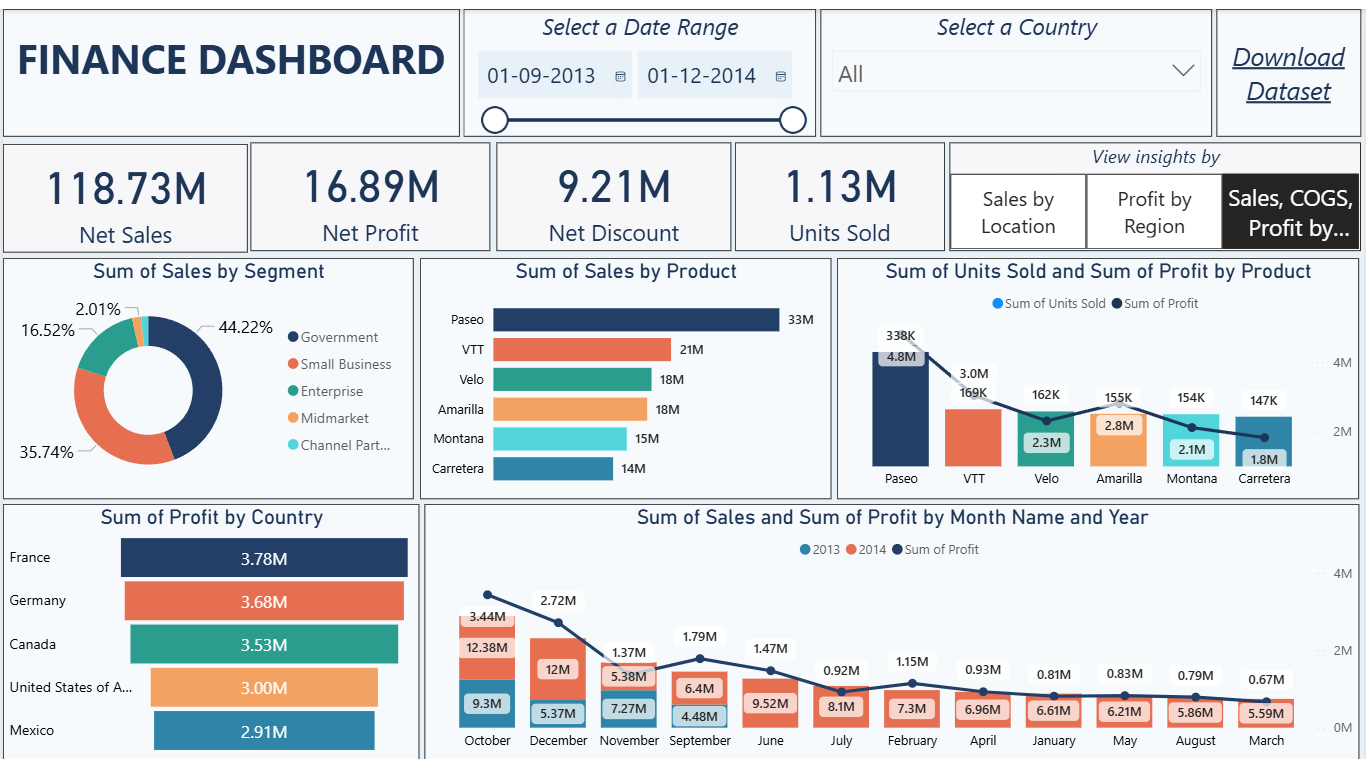

The page's visual inventory and layout, read from the dashboard file:
{"tool":"powerbi","page":{"name":"Dashboard","canvas":[1280,720],"ordinal":4},"visuals":[{"type":"textbox","box":[0,0,429,119.8],"z":0},{"type":"slicer","title":"Select a Date Range","fields":{"Values":["financials.Date"]},"box":[433,0,331,119.8],"z":1000},{"type":"slicer","title":"Select a Country","fields":{"Values":["financials.Country"]},"box":[768.5,0,368,119.8],"z":2000},{"type":"actionButton","title":"Visit Website","box":[1140,0,136,119.8],"z":3000},{"type":"bookmarkNavigator","title":"View insights by","box":[889.9,126,386.6,102.3],"z":4000},{"type":"card","fields":{"Values":["Master Table.Net Sales"]},"box":[0,126.2,230.1,102.3],"z":5000},{"type":"card","fields":{"Values":["Master Table.Net Profit"]},"box":[233.3,126,225.3,102.3],"z":6000},{"type":"card","fields":{"Values":["Master Table.Net Discount"]},"box":[463.3,126,220.5,102.3],"z":7000},{"type":"card","fields":{"Values":["Master Table.Total Unit Sold"]},"box":[688.6,126,197,102.3],"z":8000},{"type":"clusteredBarChart","fields":{"Category":["financials.Product"],"Y":["Sum(financials. Sales)"]},"box":[391.4,234,386.6,226.9],"z":9000},{"type":"donutChart","fields":{"Category":["financials.Segment"],"Y":["Sum(financials. Sales)"]},"box":[0,234,386,226.9],"z":10000},{"type":"lineClusteredColumnComboChart","fields":{"Y":["Sum(financials.Units Sold)"],"Y2":["Sum(financials.Profit)"],"Category":["financials.Product"]},"box":[784.5,234,490.5,226.9],"z":11000},{"type":"funnel","fields":{"Category":["financials.Country"],"Y":["Sum(financials.Profit)"]},"box":[0,464.9,391.4,241.2],"z":12000},{"type":"lineStackedColumnComboChart","fields":{"Category":["financials.Month Name"],"Y2":["Sum(financials.Profit)"],"Y":["Sum(financials. Sales)"],"Series":["financials.Year"]},"box":[396.2,464.9,878.7,241.2],"z":13000}]}

Visuals, with their boxes in screenshot pixels (x1, y1, x2, y2), scaled from the page's 1280x720 canvas onto the 1366x759 screenshot:
textbox: (0, 0, 458, 126)
"Select a Date Range" slicer: (462, 0, 815, 126)
"Select a Country" slicer: (820, 0, 1213, 126)
"Visit Website" actionButton: (1217, 0, 1362, 126)
"View insights by" bookmarkNavigator: (950, 133, 1362, 241)
card - Master Table.Net Sales: (0, 133, 246, 241)
card - Master Table.Net Profit: (249, 133, 489, 241)
card - Master Table.Net Discount: (494, 133, 730, 241)
card - Master Table.Total Unit Sold: (735, 133, 945, 241)
clusteredBarChart - financials.Product x Sum(financials. Sales): (418, 247, 830, 486)
donutChart - financials.Segment x Sum(financials. Sales): (0, 247, 412, 486)
lineClusteredColumnComboChart - Sum(financials.Units Sold) x Sum(financials.Profit): (837, 247, 1361, 486)
funnel - financials.Country x Sum(financials.Profit): (0, 490, 418, 744)
lineStackedColumnComboChart - financials.Month Name x Sum(financials.Profit): (423, 490, 1361, 744)
